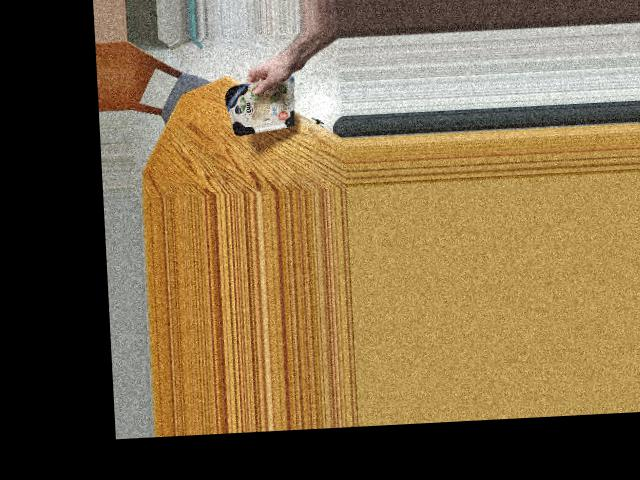cheese: (221, 76, 305, 130)
